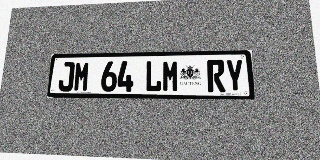4: (117, 61, 134, 92)
6: (101, 61, 118, 92)
J: (58, 62, 75, 91)
L: (145, 60, 162, 92)
M: (162, 60, 179, 92), (73, 62, 90, 92)
R: (207, 60, 226, 92)
Y: (225, 59, 245, 92)
